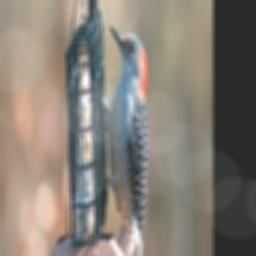Woodpecker: (99, 17, 148, 256)
